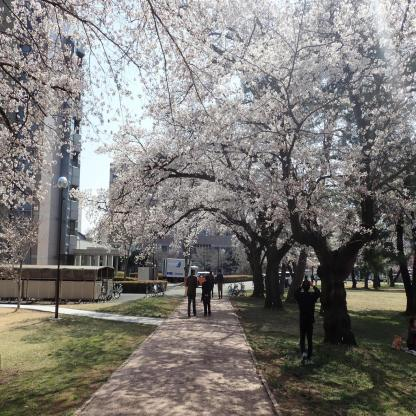Someiyoshino: (1, 3, 415, 274)
